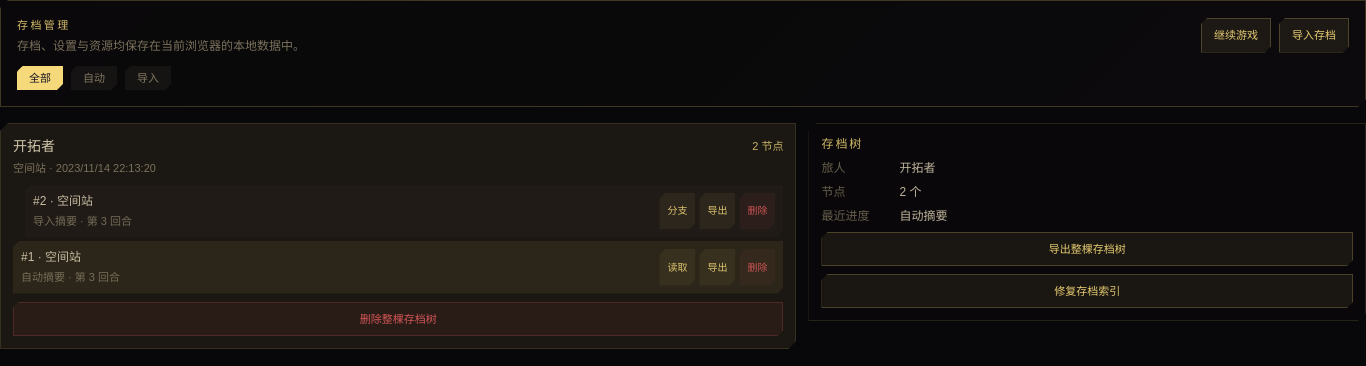
Test: 过滤语义（4b：两变体各自保留） › 设置页先按类型过滤节点再建树
Check: the text "自动摘要" is shown, box [900,209,948,223]
Click the button "自动". click: coordinates (94, 78)
box: [71,66,117,90]
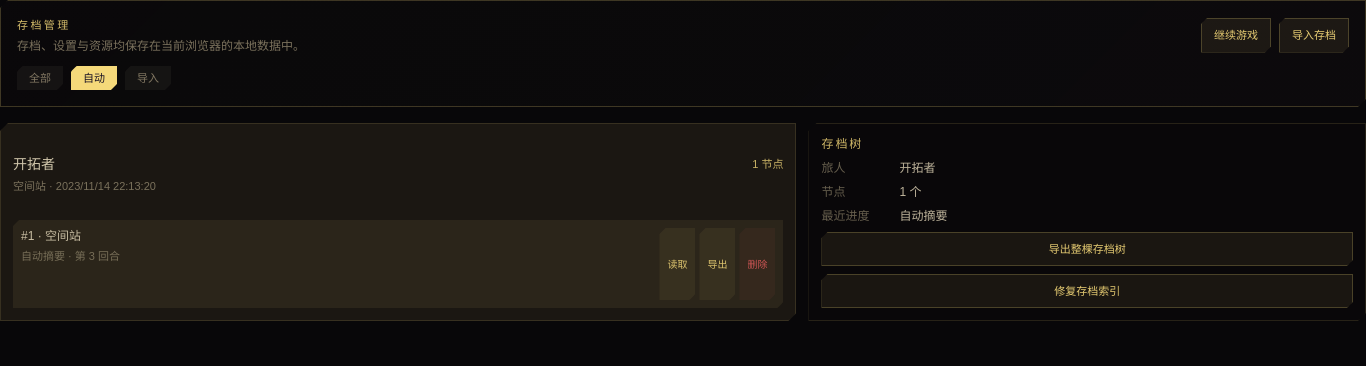
Check: the text "自动摘要" is shown, box [900,209,948,223]
Check: the text "导入摘要" is gone
